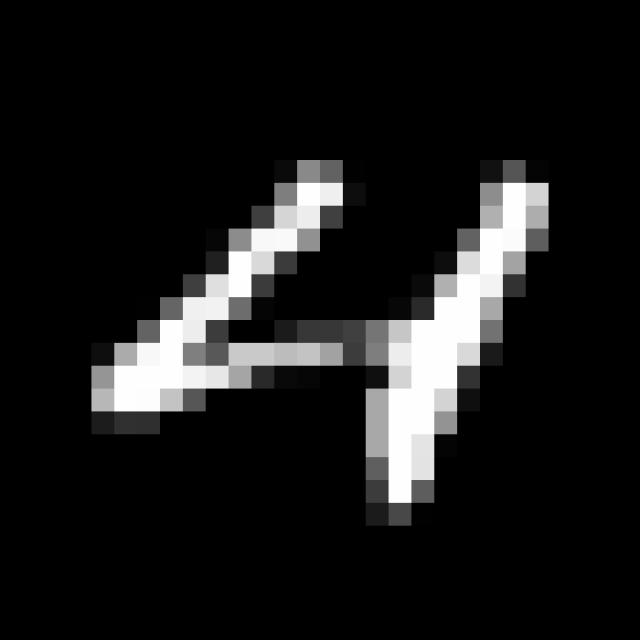four -4-: (73, 146, 566, 532)
